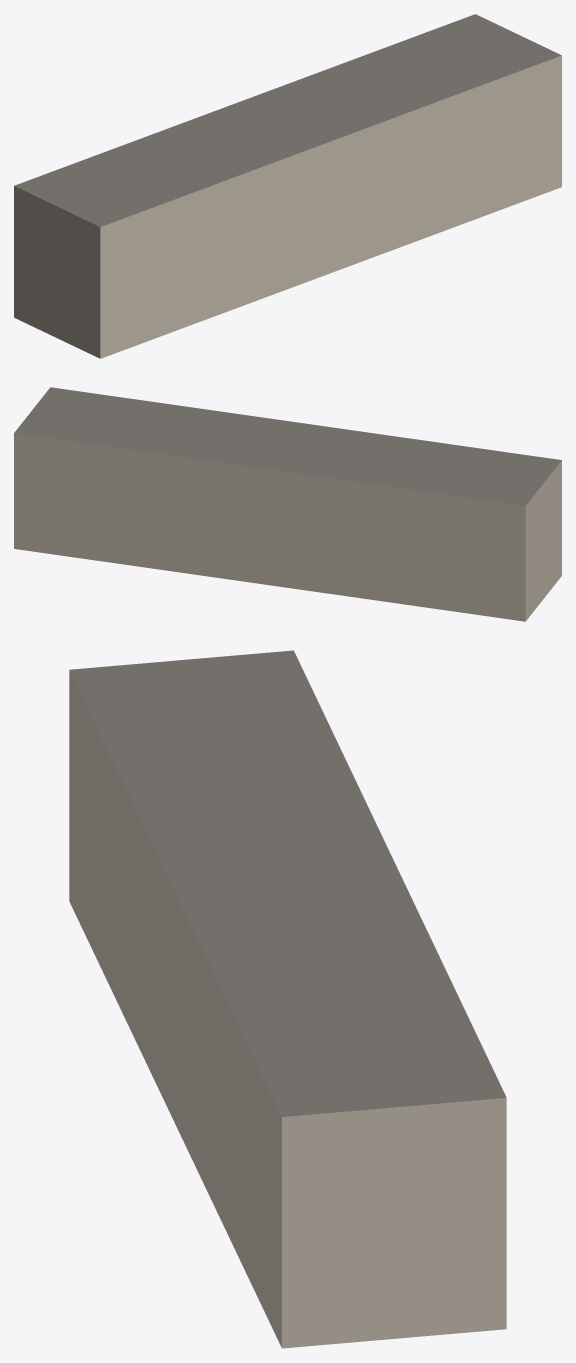
3 views of the same model, one above another, from view 1: azimuth 30°, elevation 25°; view 2: azimuth 150°, elevation 25°; view 3: azimuth 270°, elevation 25° (orthographic). The views are drawn at different scales.
Parts seen in each view (by area): view 1: HP-w859488723; view 2: HP-w859488723; view 3: HP-w859488723.
Boxes of the visible parts, box(x1,y1,x2,y2) form: HP-w859488723: box(14, 14, 561, 358); HP-w859488723: box(14, 387, 561, 621); HP-w859488723: box(69, 650, 506, 1348).
Bounding box in the file's own units: 77.85 × 18 × 30.84.
